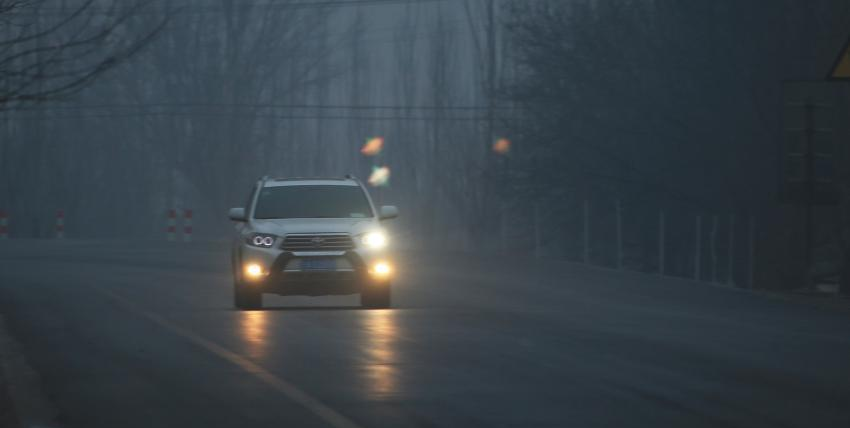car: (228, 170, 402, 311)
